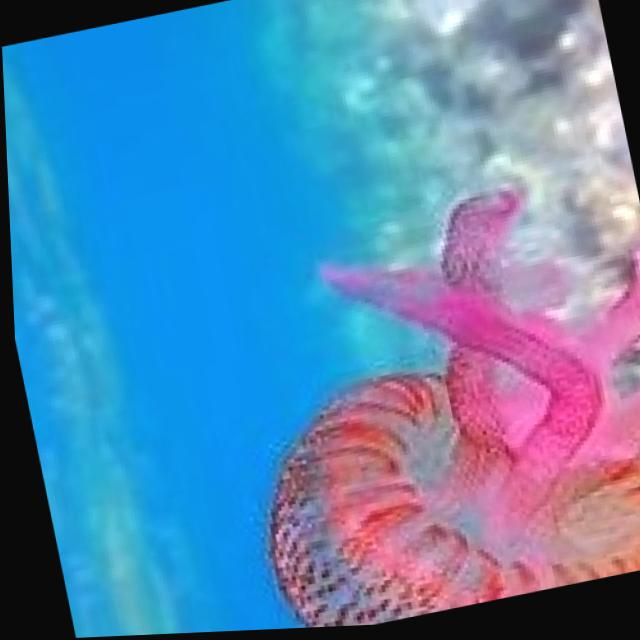Moon-jellyfish: (194, 159, 640, 633)
